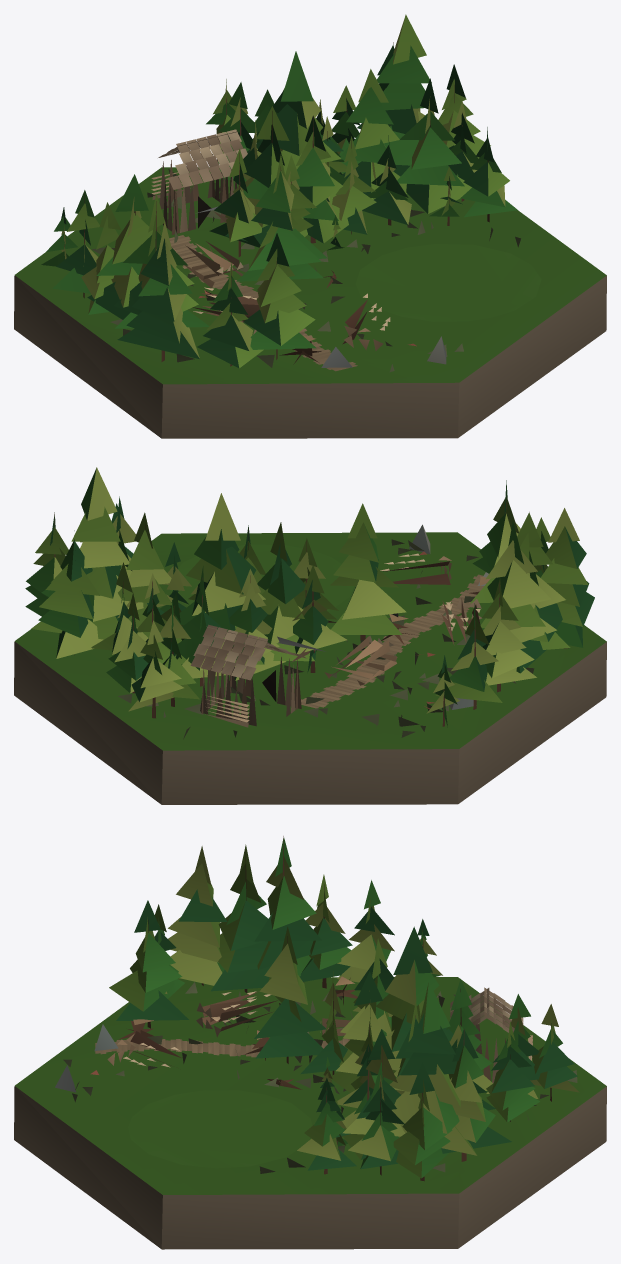
File: tile_timber_lod1.glb
3 views of the same model, one above another, from view 1: azimuth 30°, elevation 25°; view 2: azimuth 150°, elevation 25°; view 3: azimuth 270°, elevation 25° (orthographic).
Parts seen in each view (by area): view 1: tile_timber_LOD1; view 2: tile_timber_LOD1; view 3: tile_timber_LOD1.
Part boxes in pixels (x1=…): tile_timber_LOD1: x1=14, y1=14, x2=606, y2=438; tile_timber_LOD1: x1=14, y1=467, x2=606, y2=804; tile_timber_LOD1: x1=14, y1=836, x2=606, y2=1249.
Bounding box in the file's own units: 1.8 × 0.8685 × 1.98.
